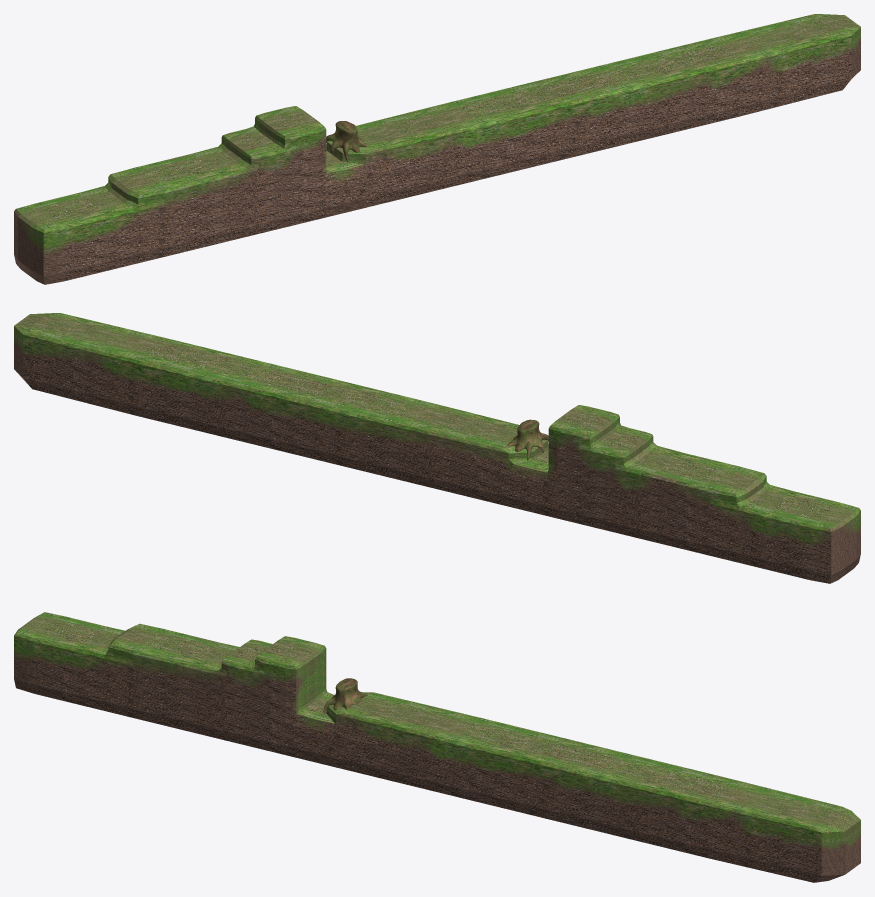
The model's file is Stage1.fbx.
3 renders of one model, top to bottom at view 1: azimuth 30°, elevation 25°; view 2: azimuth 150°, elevation 25°; view 3: azimuth 330°, elevation 25°, orthographic.
Parts seen in each view (by area): view 1: Ground, Wood; view 2: Ground, Wood; view 3: Ground, Wood.
Part boxes in pixels (<box>): Ground: <box>14,14,860,284</box>; Wood: <box>326,121,367,161</box>; Ground: <box>14,313,860,583</box>; Wood: <box>507,419,548,460</box>; Ground: <box>14,612,860,882</box>; Wood: <box>323,678,367,713</box>.
Bounding box in the file's own units: 15000 × 1600 × 1000.
